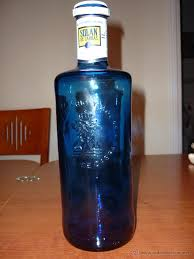solan de cabras: (45, 1, 145, 256)
